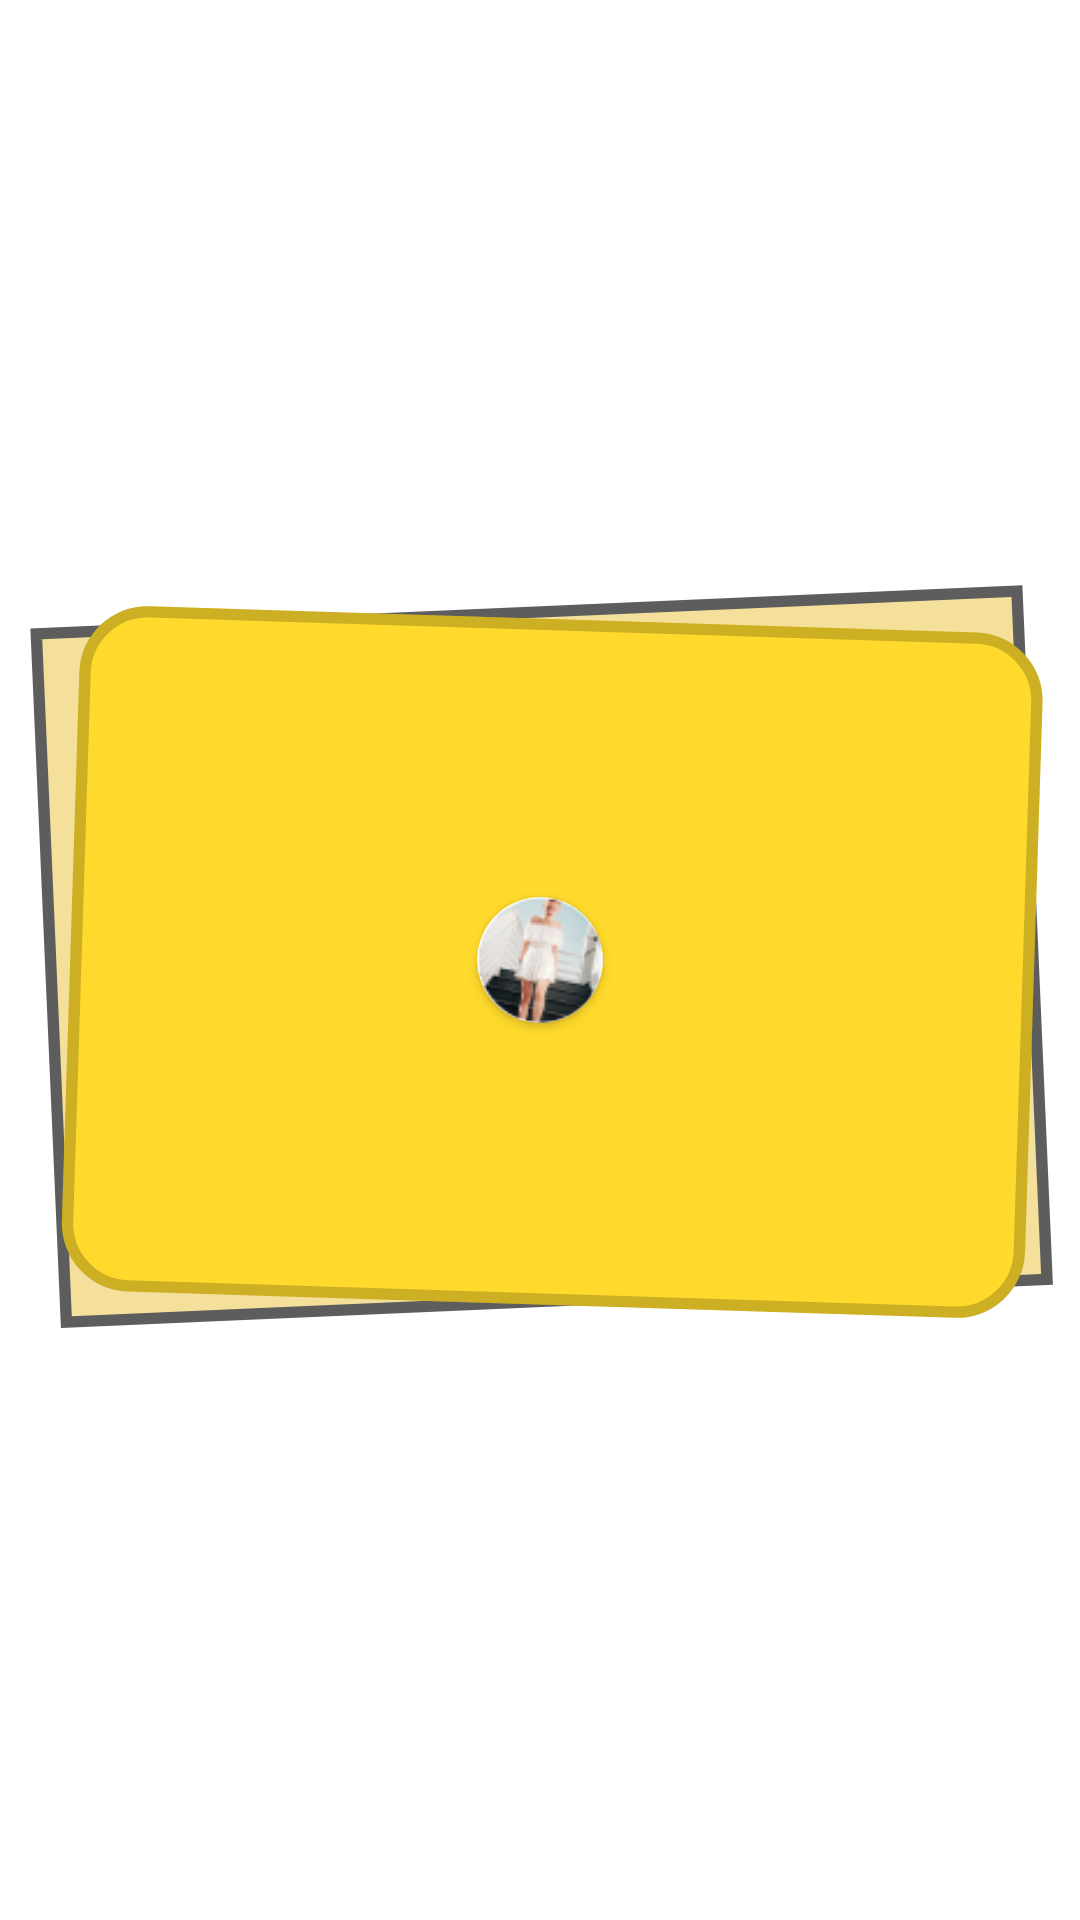

Icon click points for this 1080 × 1920 phone screenshot, format (x=x, y=y):
avt: (x=540, y=960)
